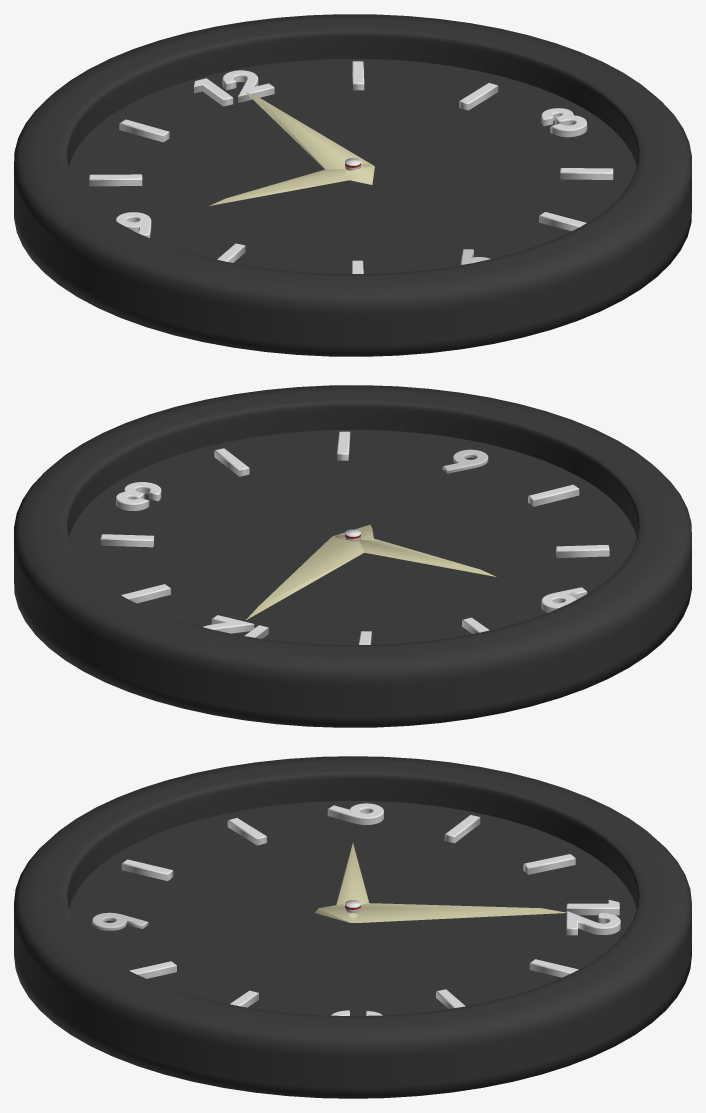
File: Watch.fbx
The picture shows the model from 3 angles, top to bottom: view 1: azimuth 30°, elevation 25°; view 2: azimuth 150°, elevation 25°; view 3: azimuth 270°, elevation 25°; orthographic projection.
Visible parts, largest first — view 1: Circle, Plane, Text, Plane_001, Text_001, Text_007, Text_011, Text_008, Text_003, Text_010; view 2: Circle, Plane, Plane_001, Text_001, Text, Text_002, Text_010, Text_003, Text_014, Text_013, Text_009; view 3: Circle, Plane, Text, Plane_001, Text_003, Text_002, Text_008, Text_013, Text_014, Text_009.
Part boxes in pixels (x1,y1,x2,y2): Circle: (14, 14, 691, 356); Plane: (245, 92, 374, 184); Text: (194, 70, 274, 106); Plane_001: (209, 163, 370, 205); Text_001: (541, 108, 587, 137); Text_007: (89, 174, 142, 186); Text_011: (560, 168, 613, 179); Text_008: (119, 119, 169, 142); Text_003: (115, 212, 151, 238); Text_010: (459, 83, 498, 110); Circle: (14, 385, 691, 727); Plane: (246, 525, 373, 619); Plane_001: (335, 534, 496, 576); Text_001: (116, 482, 161, 510); Text: (203, 615, 268, 638); Text_002: (442, 449, 488, 473); Text_010: (100, 534, 154, 547); Text_003: (541, 587, 587, 612); Text_014: (556, 545, 609, 557); Text_013: (528, 484, 579, 506); Text_009: (121, 584, 170, 603); Circle: (14, 756, 691, 1098); Plane: (314, 903, 567, 922); Text: (566, 899, 620, 935); Plane_001: (336, 843, 368, 920); Text_003: (327, 803, 383, 824); Text_002: (92, 912, 148, 930); Text_008: (523, 854, 575, 874); Text_013: (121, 859, 173, 881); Text_014: (227, 818, 266, 845); Text_009: (529, 959, 578, 977).
Bounding box in the file's own units: 5.74 × 0.6539 × 5.74.
